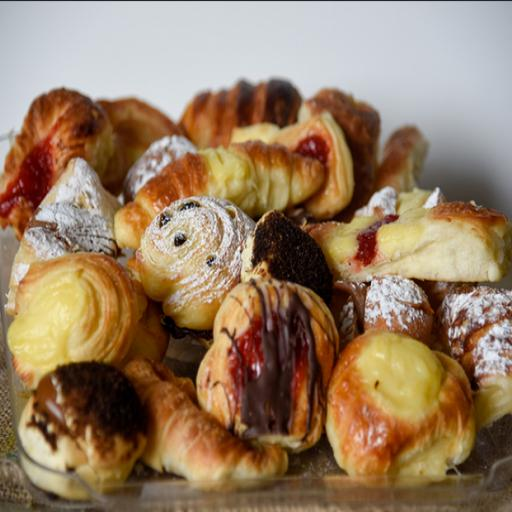bolleria: (197, 279, 338, 452), (116, 141, 324, 248), (326, 331, 474, 476), (7, 254, 138, 387), (306, 201, 511, 281), (135, 196, 254, 331), (20, 362, 146, 484), (241, 211, 333, 306)
